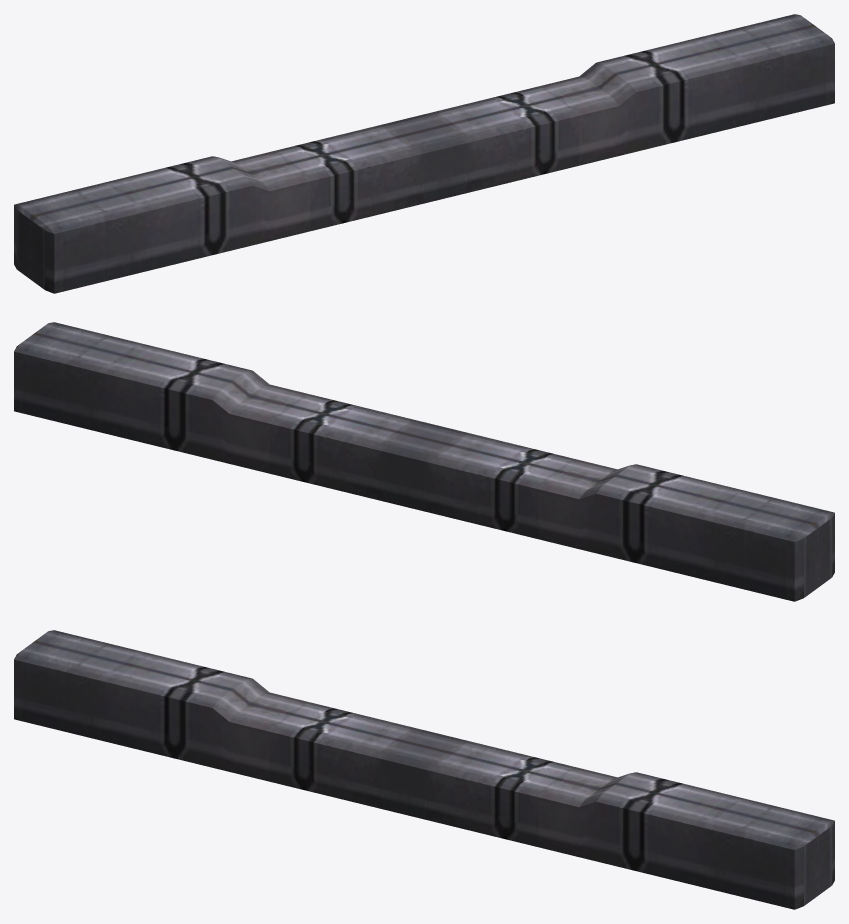
Rendered from 铁轨枕木.obj.
3 views of the same model, one above another, from view 1: azimuth 30°, elevation 25°; view 2: azimuth 150°, elevation 25°; view 3: azimuth 330°, elevation 25° (orthographic).
Visible parts, largest first — view 1: Box012; view 2: Box012; view 3: Box012.
Boxes of the visible parts, x1,y1,x2,y2 form: Box012: (14,14,834,293); Box012: (14,322,834,601); Box012: (14,630,834,909).
Bounding box in the file's own units: 2.5 × 0.1913 × 0.2214.
